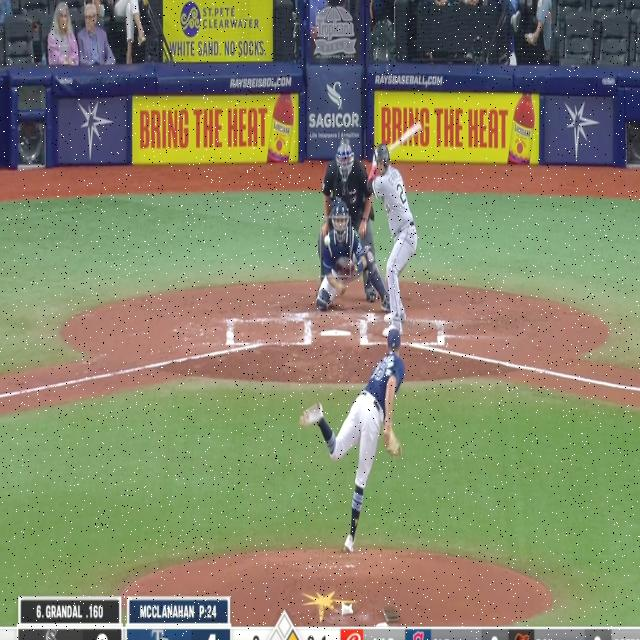baseball: (324, 235, 330, 246)
